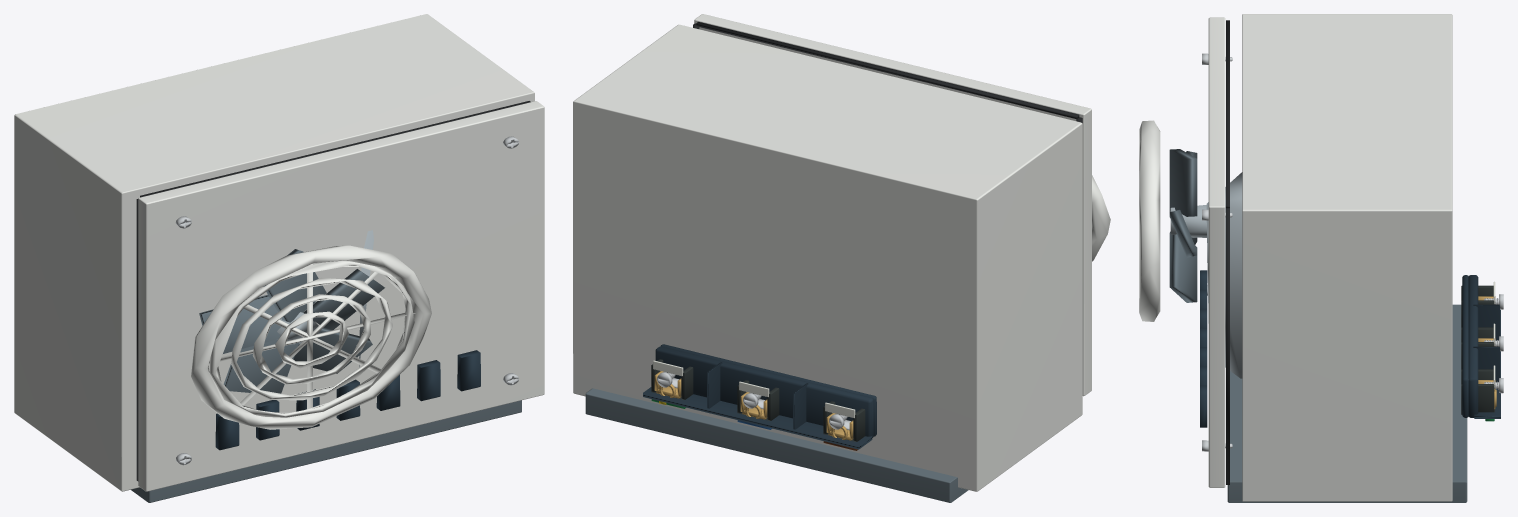
Rendered from heatpump_default.low.glb.
The picture shows the model from 3 angles, left to right: view 1: azimuth 30°, elevation 25°; view 2: azimuth 150°, elevation 25°; view 3: azimuth 270°, elevation 25°; orthographic projection. The views are drawn at different scales.
Parts seen in each view (by area): view 1: part:cover, part:body, part:cover.001 · Original 7dbee62c, motion:rotor · Original 0905ee26, part:cover · Original a463fd81, detail:enclosure-gasket-and-fixings · Detail rubber gasket, detail:enclosure-gasket-and-fixings · Detail zinc plated fix; view 2: part:body, part:terminals · Original a463fd81, part:cover, detail:enclosure-gasket-and-fixings · Detail rubber gasket, part:cover.001 · Original 7dbee62c; view 3: part:body, part:cover, part:cover.001 · Original 7dbee62c, motion:rotor · Original 0905ee26, part:terminals · Original a463fd81, part:body.002, detail:enclosure-gasket-and-fixings · Detail rubber gasket, part:cover · Original a463fd81, detail:terminal-clamp:PE · Detail moulded engineering polyme, motion:rotor.
Part boxes in pixels (x1,y1,x2,y2): part:cover: [138, 101, 544, 491]; part:body: [14, 14, 534, 502]; part:cover.001 · Original 7dbee62c: [191, 245, 431, 429]; motion:rotor · Original 0905ee26: [199, 249, 384, 393]; part:cover · Original a463fd81: [215, 350, 480, 450]; detail:enclosure-gasket-and-fixings · Detail rubber gasket: [136, 101, 530, 481]; detail:enclosure-gasket-and-fixings · Detail zinc plated fix: [175, 136, 518, 465]; part:body: [573, 24, 1082, 502]; part:terminals · Original a463fd81: [643, 344, 876, 449]; part:cover: [694, 14, 1091, 396]; detail:enclosure-gasket-and-fixings · Detail rubber gasket: [693, 22, 1082, 123]; part:cover.001 · Original 7dbee62c: [1092, 175, 1110, 261]; part:body: [1227, 14, 1467, 502]; part:cover: [1208, 17, 1225, 487]; part:cover.001 · Original 7dbee62c: [1139, 120, 1160, 321]; motion:rotor · Original 0905ee26: [1169, 149, 1197, 302]; part:terminals · Original a463fd81: [1462, 275, 1500, 418]; part:body.002: [1206, 172, 1242, 378]; detail:enclosure-gasket-and-fixings · Detail rubber gasket: [1226, 20, 1229, 484]; part:cover · Original a463fd81: [1200, 270, 1207, 427]; detail:terminal-clamp:PE · Detail moulded engineering polyme: [1461, 369, 1494, 414]; motion:rotor: [1170, 205, 1206, 237].
Size of the model in its own units: 1.56 by 1.24 by 1.22.
